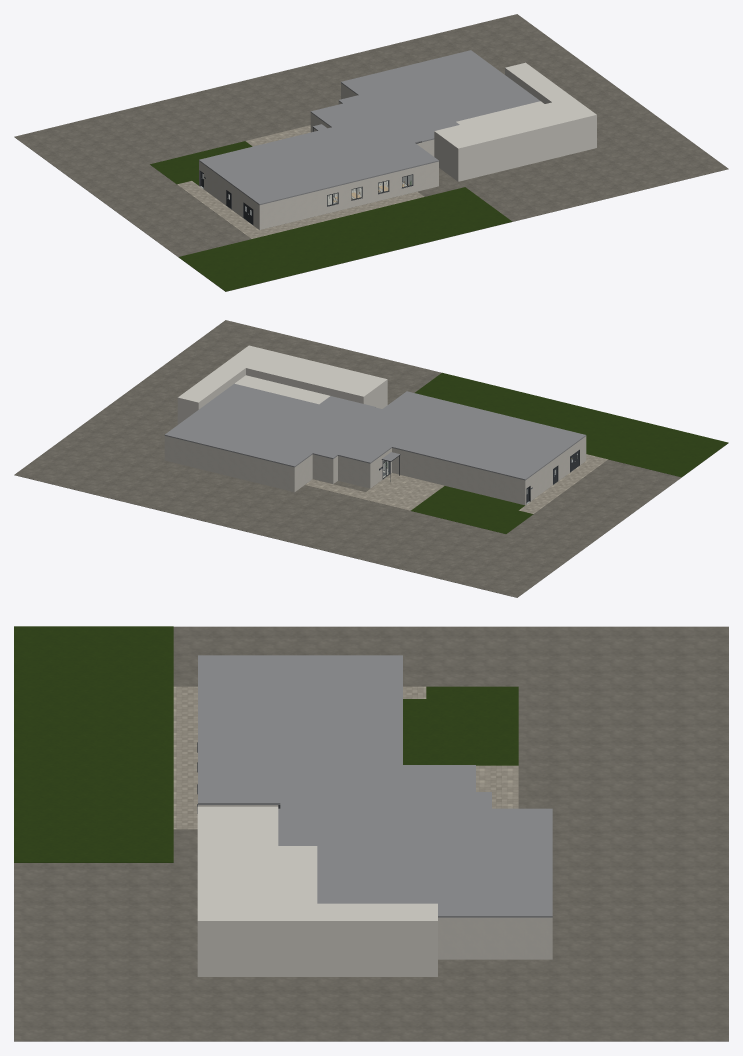
3 renders of one model, top to bottom at view 1: azimuth 30°, elevation 25°; view 2: azimuth 150°, elevation 25°; view 3: azimuth 270°, elevation 25°, orthographic. The views are drawn at different scales.
Parts seen in each view (by area): view 1: S_EXT_1, S_ROOF_1, S_EXT_0, S_REF_1; view 2: S_EXT_1, S_ROOF_1, S_EXT_0; view 3: S_EXT_1, S_ROOF_1, S_EXT_0.
Part boxes in pixels (left/top/right/bottom): S_EXT_1: left=14, top=14, right=728, bottom=291; S_ROOF_1: left=199, top=50, right=540, bottom=205; S_EXT_0: left=199, top=83, right=438, bottom=229; S_REF_1: left=327, top=174, right=413, bottom=206; S_EXT_1: left=14, top=320, right=728, bottom=597; S_ROOF_1: left=164, top=383, right=586, bottom=480; S_EXT_0: left=164, top=436, right=586, bottom=505; S_EXT_1: left=14, top=626, right=728, bottom=1041; S_ROOF_1: left=198, top=655, right=552, bottom=917; S_EXT_0: left=198, top=805, right=552, bottom=959.
Size of the model in its own units: 70 by 4.46 by 51.
70 materials, 25 textured.
